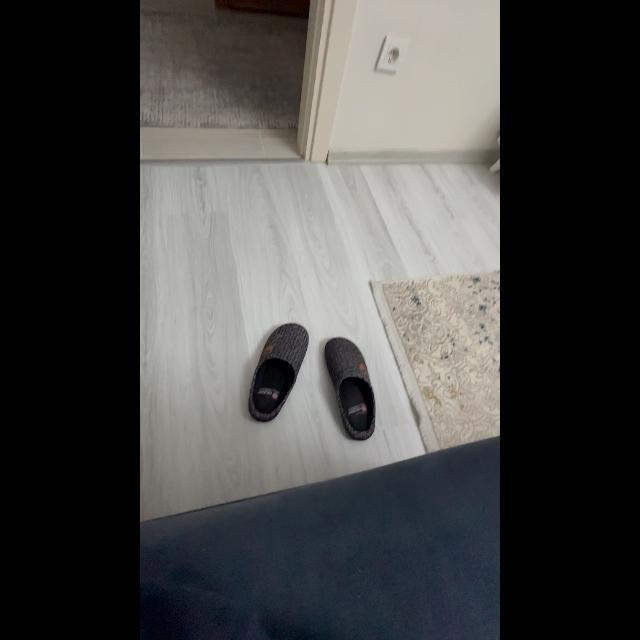slipper: (242, 314, 316, 428), (319, 328, 383, 448)
